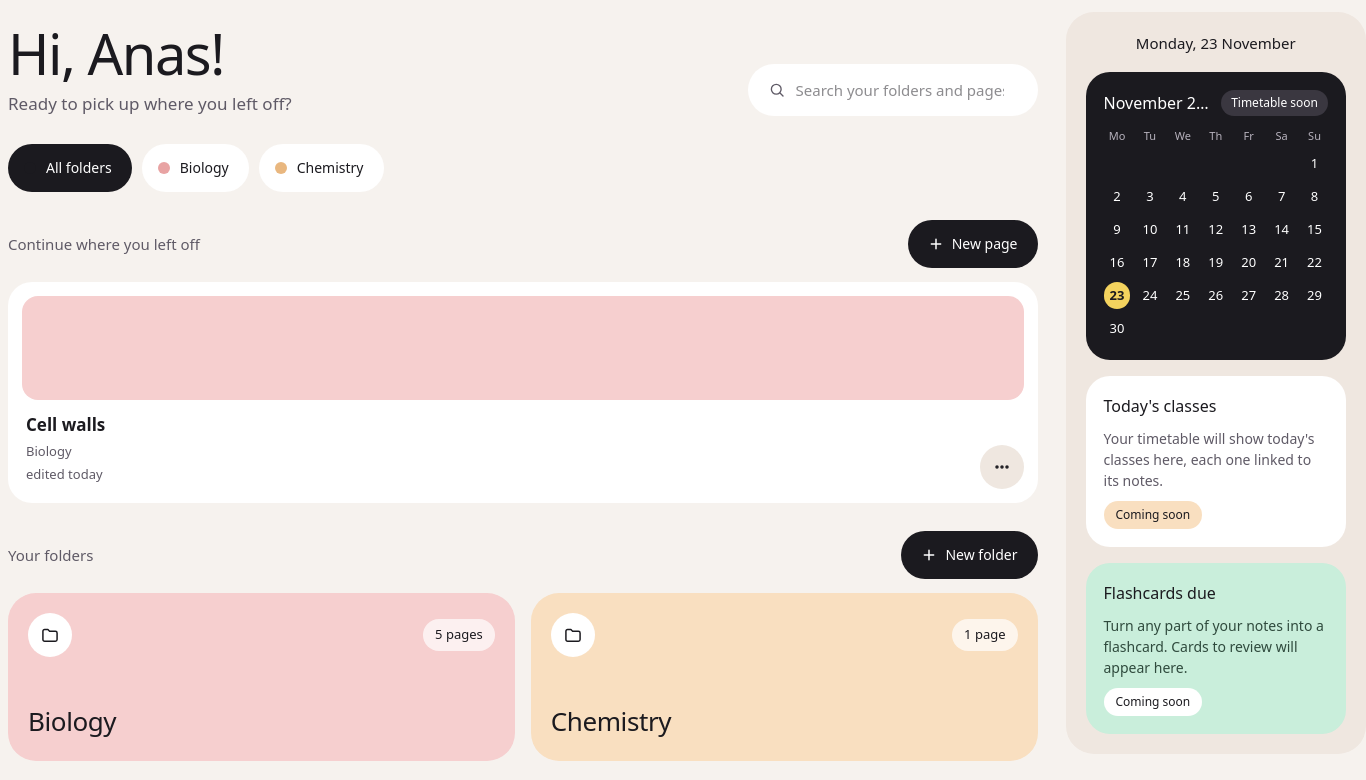
Test: Dashboard › a folder chip with no recent pages and an empty search shows the no-recent message, not no-matches
Click the button "Chemistry": (321, 168) [259,144,384,192]
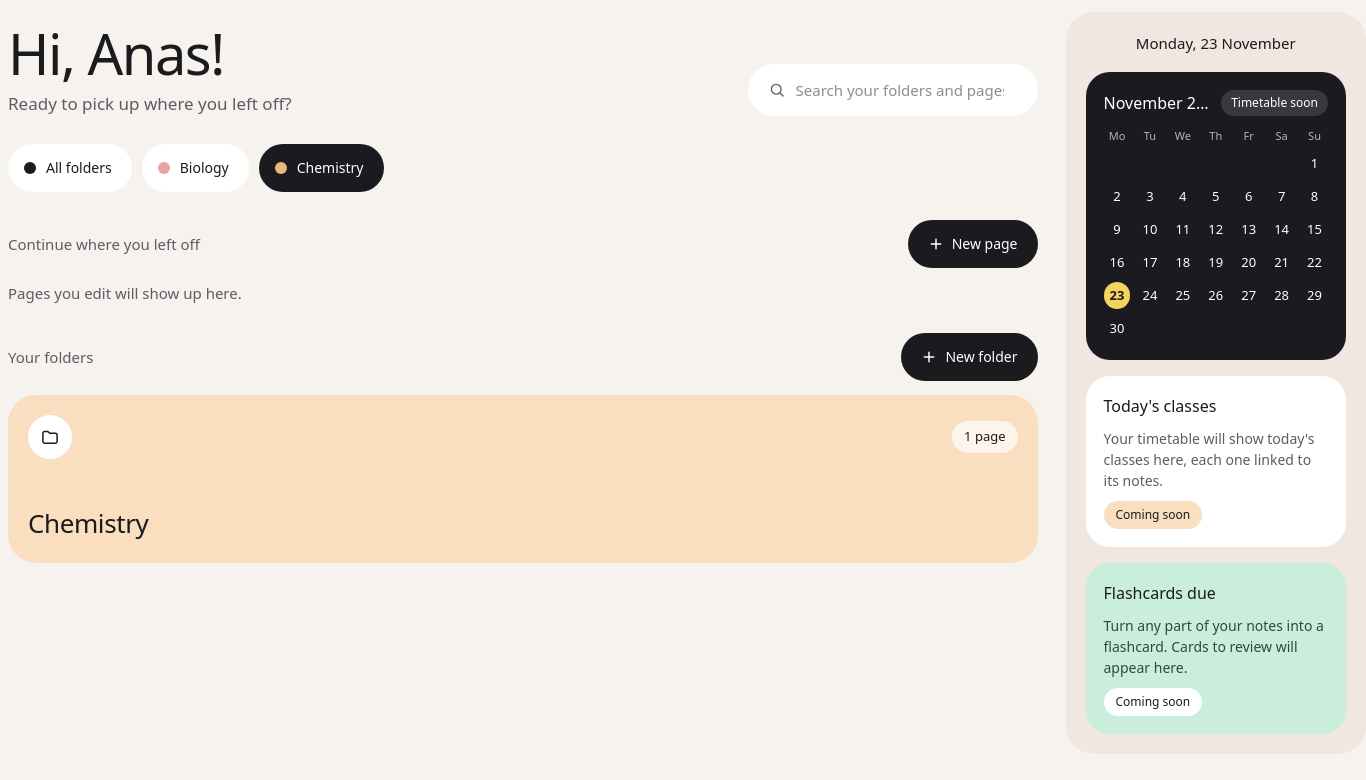
Expected: the text "Nothing matches your search." is not shown
Expected: the text "Pages you edit will show up here." is shown, [8,283,242,303]
In the search field: (906, 90) [796,79,1018,102], type "zzz"
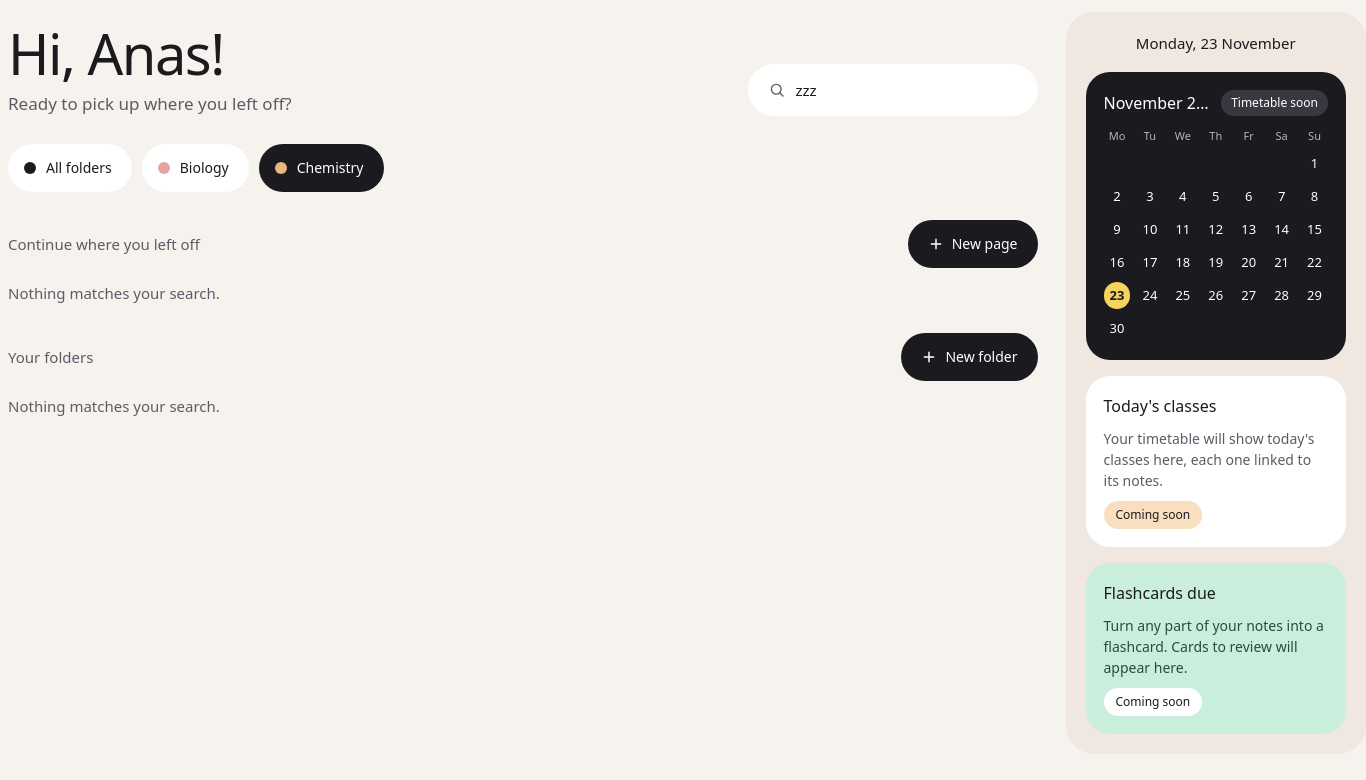
Expected: the text "Nothing matches your search." below "Continue where you left off" is shown, [8,283,220,303]
